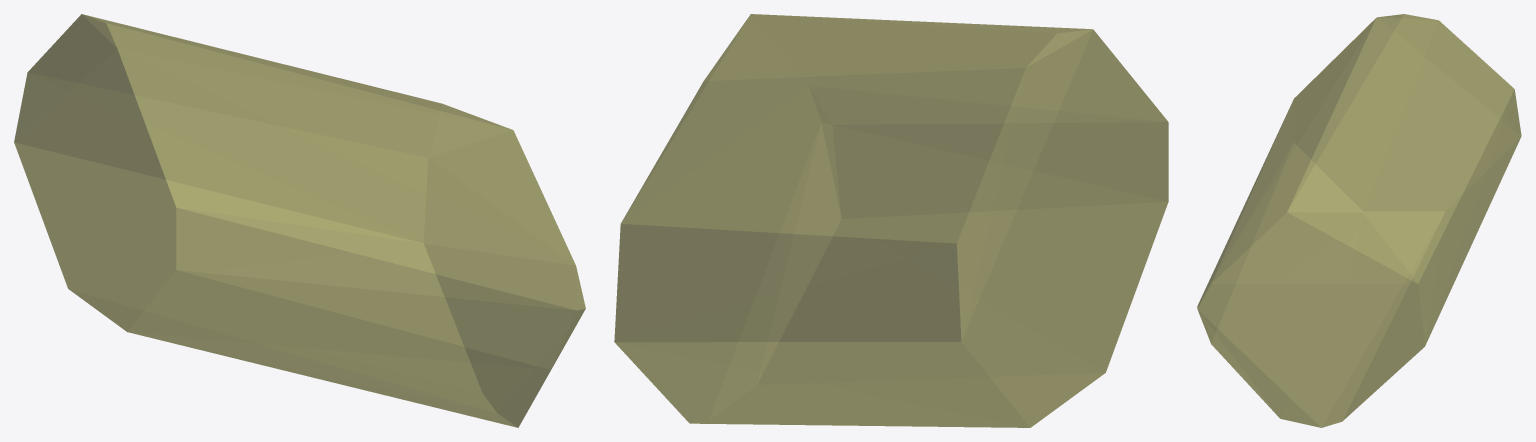
3 renders of one model, left to right at view 1: azimuth 30°, elevation 25°; view 2: azimuth 150°, elevation 25°; view 3: azimuth 270°, elevation 25°, orthographic. The views are drawn at different scales.
Parts seen in each view (by area): view 1: Shape_IndexedFaceSet.006_Shape_IndexedFaceSet.16457; view 2: Shape_IndexedFaceSet.006_Shape_IndexedFaceSet.16457; view 3: Shape_IndexedFaceSet.006_Shape_IndexedFaceSet.16457.
Boxes of the visible parts, <box> form: Shape_IndexedFaceSet.006_Shape_IndexedFaceSet.16457: <box>14,14,585,427</box>; Shape_IndexedFaceSet.006_Shape_IndexedFaceSet.16457: <box>614,14,1168,427</box>; Shape_IndexedFaceSet.006_Shape_IndexedFaceSet.16457: <box>1197,14,1521,427</box>.
Size of the model in its own units: 0.0912 by 0.1095 by 0.1071.
